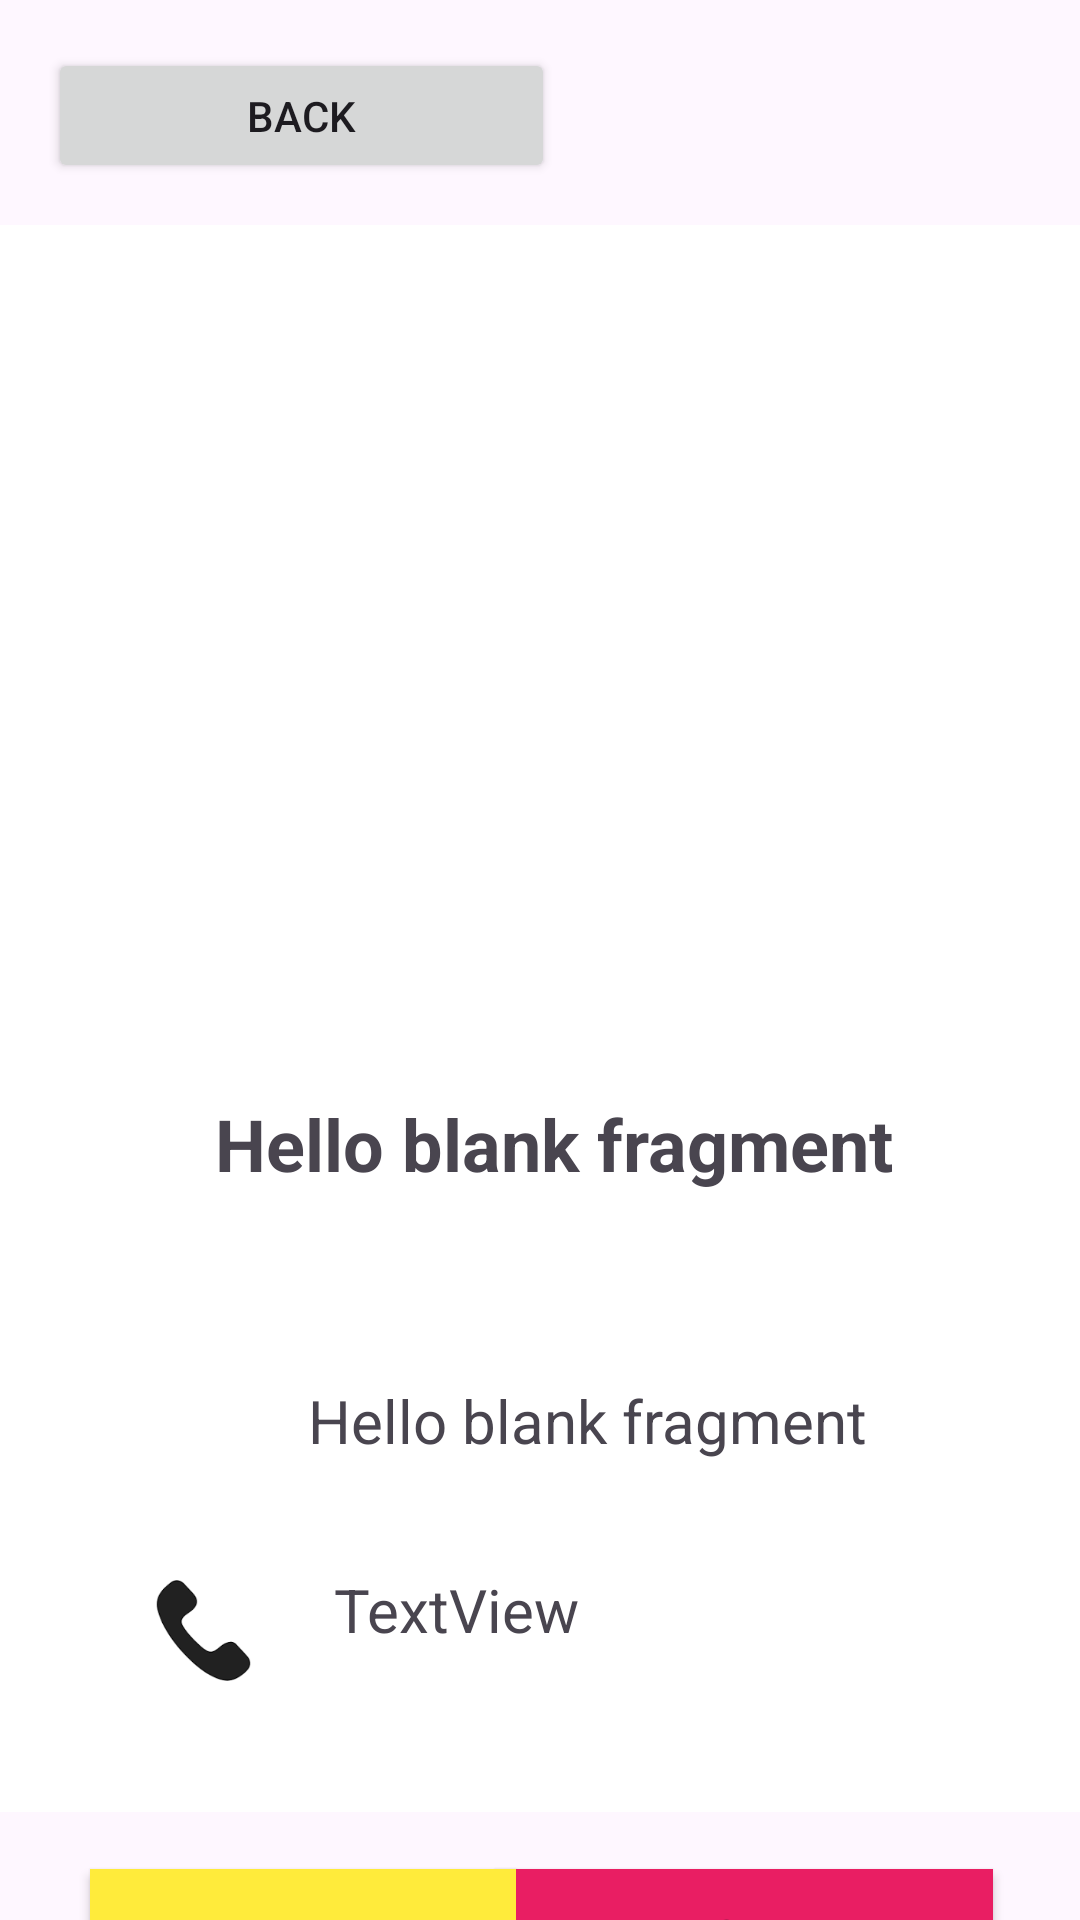

Icons on this 1080×1920 Android screen, each with its box as (x1, y1, x2, y2):
phone: (156, 1580, 251, 1681)
